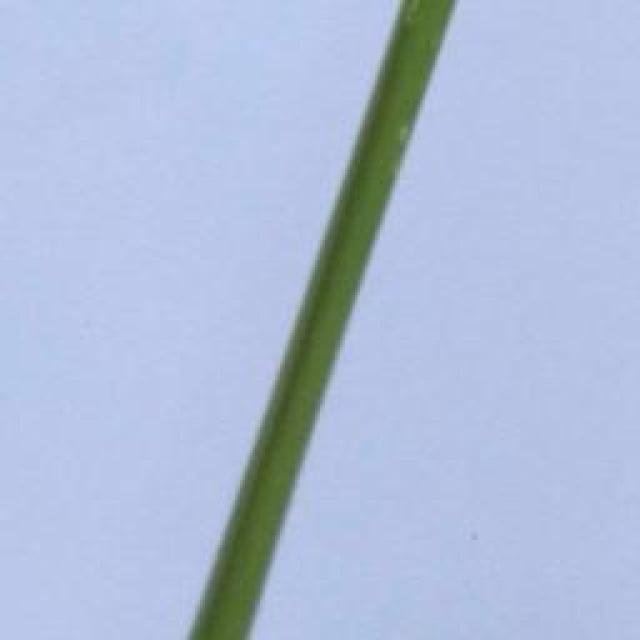Healthy-Plant: (194, 0, 456, 640)
